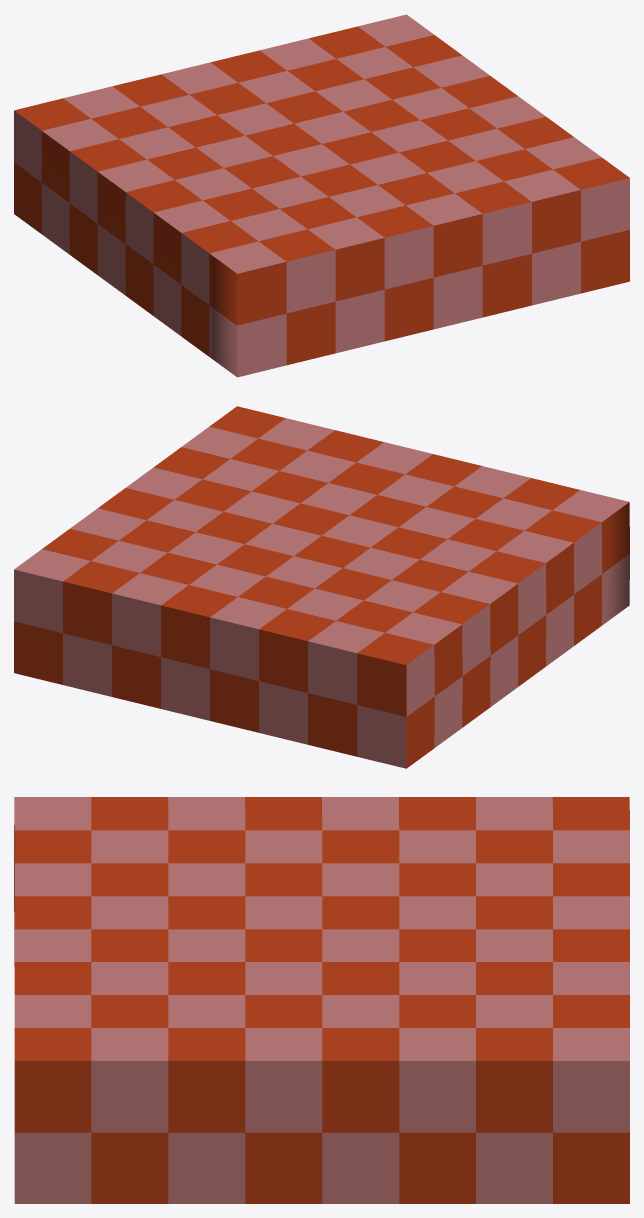
The model's file is adultshower_tile_small.fbx.
3 views of the same model, one above another, from view 1: azimuth 30°, elevation 25°; view 2: azimuth 150°, elevation 25°; view 3: azimuth 270°, elevation 25° (orthographic). The views are drawn at different scales.
Visible parts, largest first — view 1: Box002; view 2: Box002; view 3: Box002.
Boxes of the visible parts, <box> form: Box002: <box>14,14,629,377</box>; Box002: <box>14,406,629,768</box>; Box002: <box>14,797,629,1203</box>.
Size of the model in its own units: 31.49 by 7.94 by 31.03.
